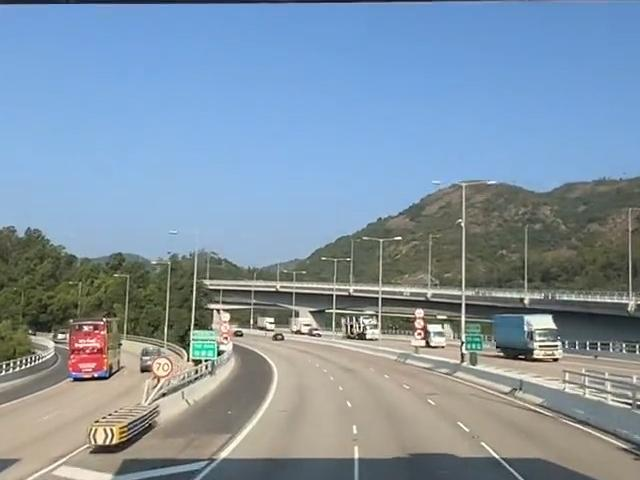bus: (62, 315, 130, 385)
truck: (484, 309, 567, 364), (421, 317, 449, 351)
